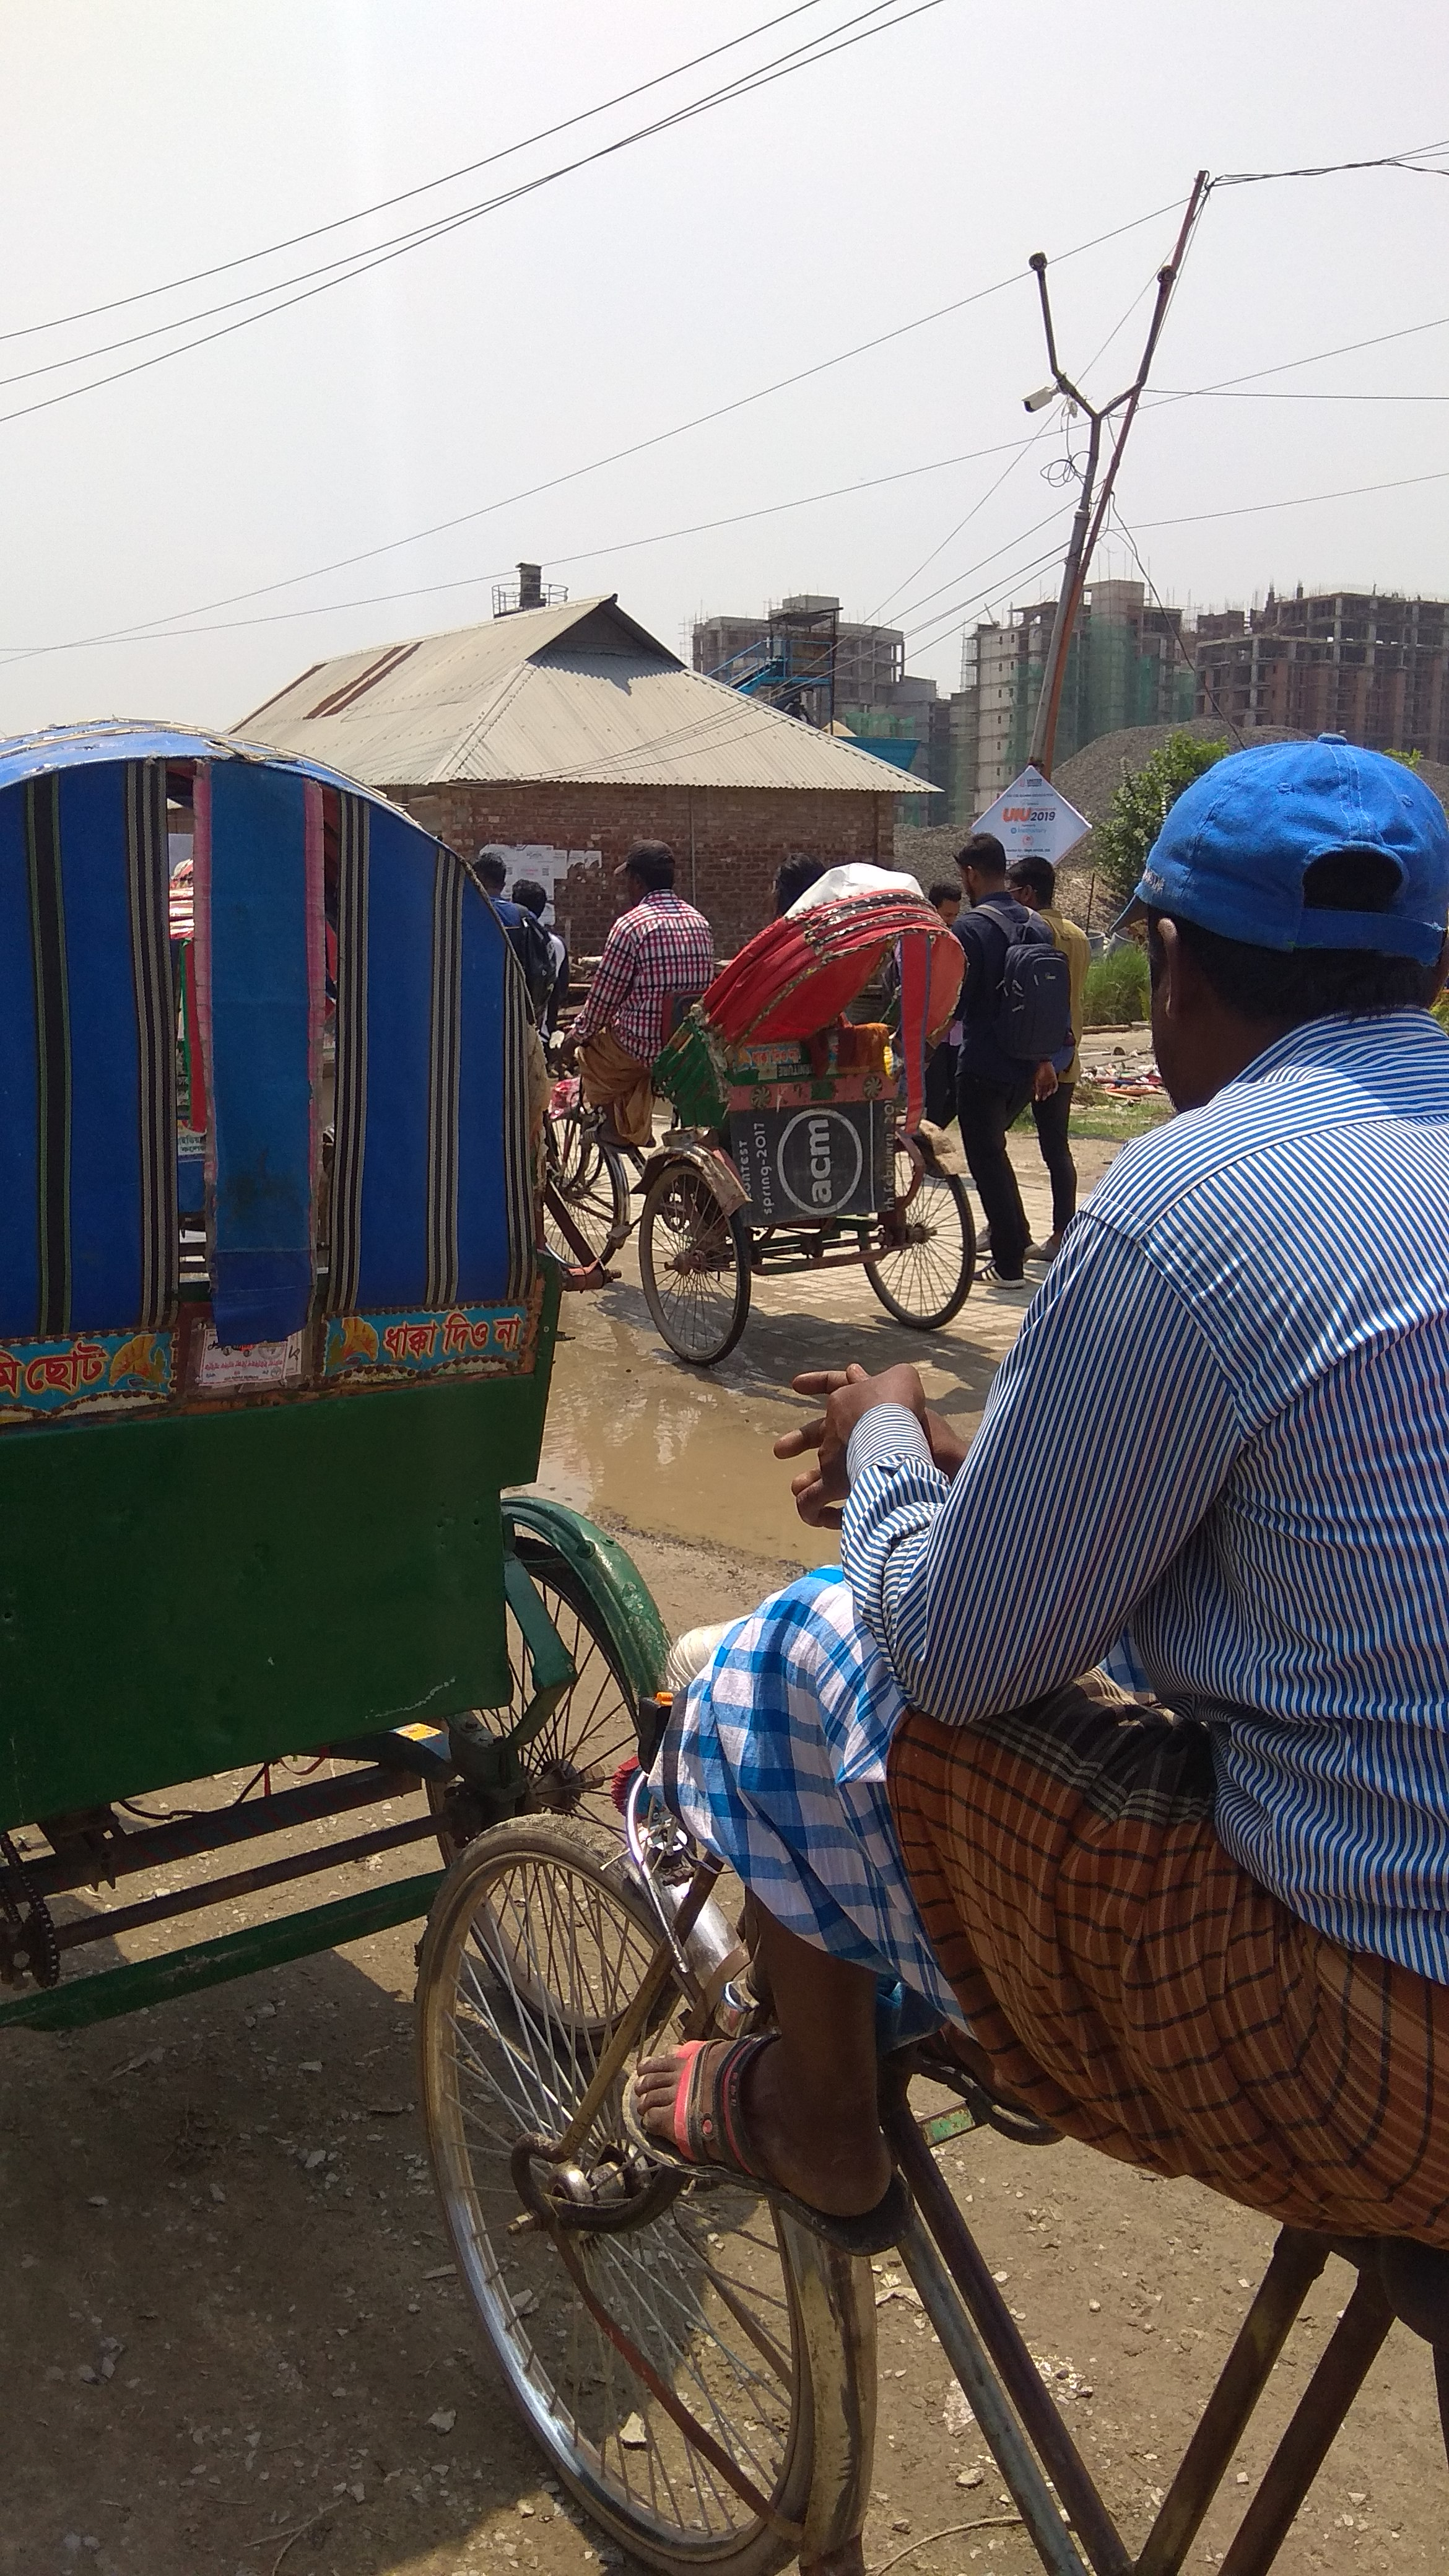Rickshaw: (4, 695, 740, 2107), (460, 1637, 1447, 2523), (616, 846, 1016, 1355)
